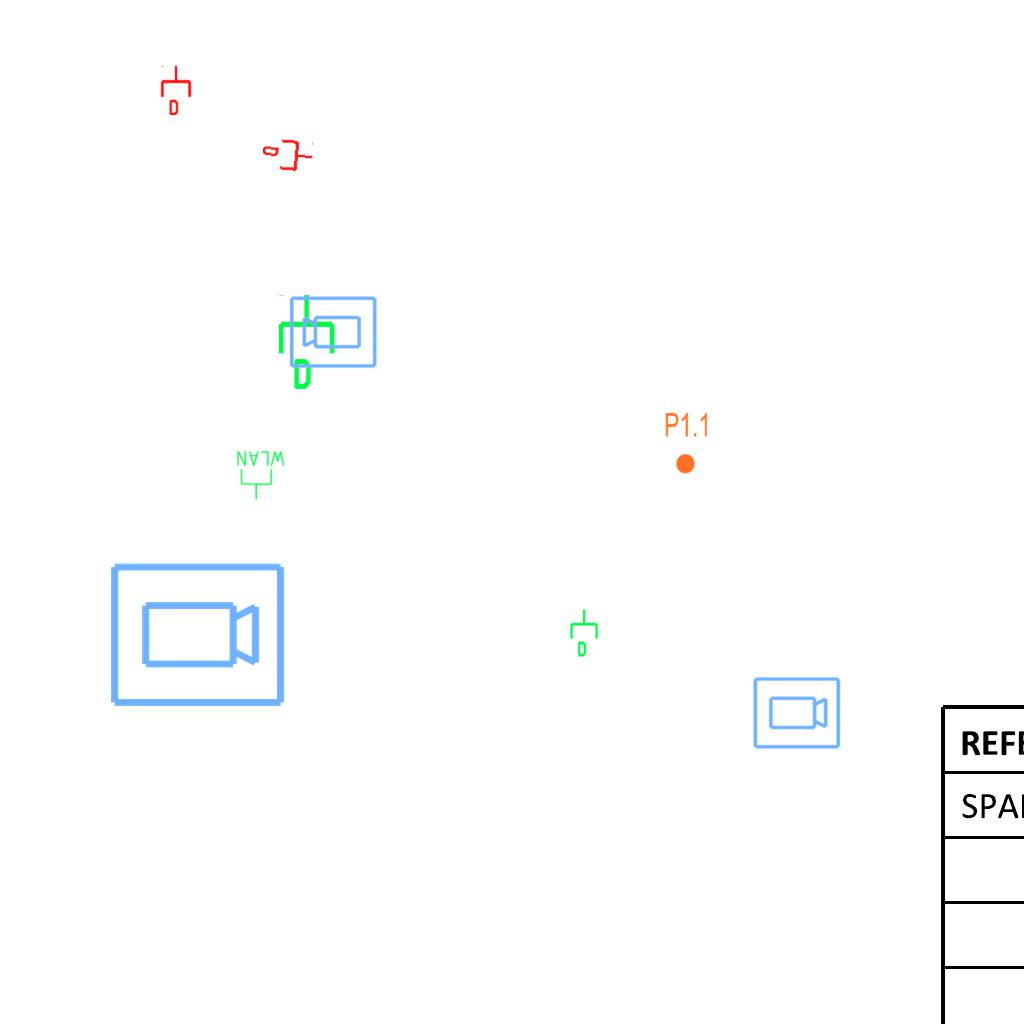Datenanschluss_einfach: (274, 292, 343, 392), (261, 135, 315, 175), (159, 65, 193, 115), (568, 608, 602, 658)
Downlight_LED_Einbauleuchten_Flur: (664, 411, 710, 475)
KFO_Kamera_mit_Festobjektiv: (106, 559, 288, 713), (751, 675, 842, 752), (288, 293, 379, 370)
WLAN: (235, 449, 287, 501)
